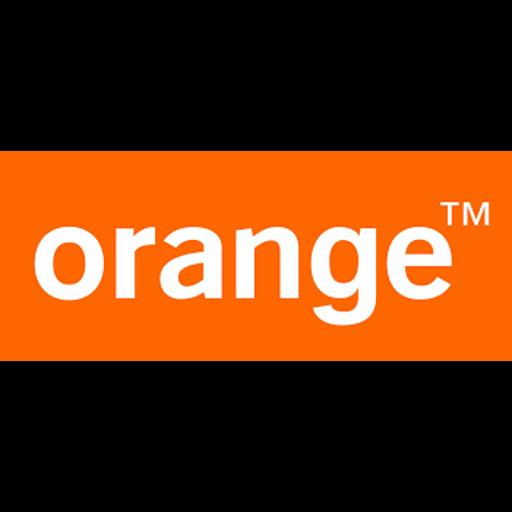Orange: (0, 151, 512, 361)
